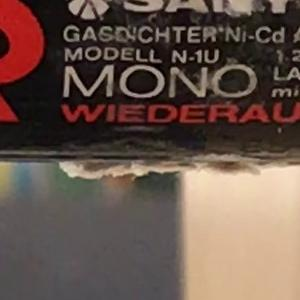keyword: (209, 18, 294, 44)
